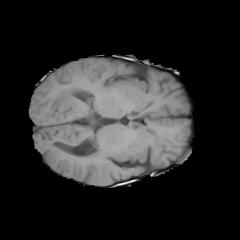glioma: (50, 87, 89, 112)
